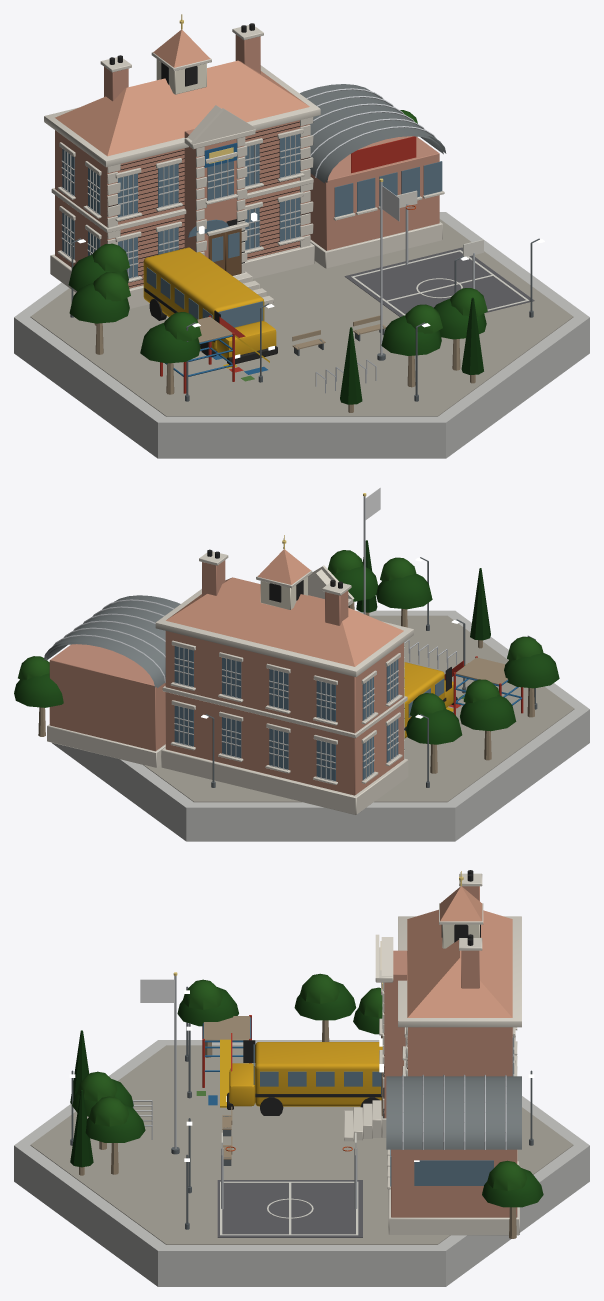
Rendered from school_med.glb.
3 renders of one model, top to bottom at view 1: azimuth 30°, elevation 25°; view 2: azimuth 150°, elevation 25°; view 3: azimuth 270°, elevation 25°, orthographic. The views are drawn at different scales.
Parts seen in each view (by area): view 1: pavers, wall_concrete, brick, stone, leaf, roof_tile, glass, paint, asphalt, dark, wood, metal (+2 smaller); view 2: wall_concrete, brick, stone, pavers, leaf, roof_tile, glass, paint, wood, metal, steel_dark, plaster (+1 smaller); view 3: wall_concrete, pavers, brick, leaf, roof_tile, paint, stone, asphalt, glass, wood, metal, dark (+2 smaller).
Boxes of the visible parts, box(x1,y1,x2,y2) form: pavers: box(30, 219, 573, 416); wall_concrete: box(14, 84, 589, 458); brick: box(55, 34, 439, 288); stone: box(44, 25, 444, 308); leaf: box(68, 110, 487, 404); roof_tile: box(55, 29, 309, 156); glass: box(62, 134, 442, 327); paint: box(143, 136, 529, 393); asphalt: box(344, 247, 534, 316); dark: box(107, 23, 310, 364); wood: box(94, 228, 475, 412); metal: box(306, 88, 474, 393); wall_concrete: box(43, 595, 589, 841); brick: box(49, 560, 403, 795); stone: box(47, 551, 413, 814); pavers: box(143, 615, 574, 802); leaf: box(14, 540, 559, 744); roof_tile: box(166, 549, 403, 666); glass: box(174, 646, 444, 780); paint: box(404, 656, 523, 738); wood: box(38, 601, 534, 773); metal: box(52, 496, 456, 682); steel_dark: box(205, 557, 537, 787); plaster: box(260, 577, 307, 609); wall_concrete: box(14, 995, 589, 1286); pavers: box(30, 1045, 573, 1244); brick: box(384, 886, 517, 1217); leaf: box(70, 973, 543, 1207); roof_tile: box(407, 886, 512, 1017); paint: box(196, 1015, 382, 1235); stone: box(344, 873, 521, 1235); asphalt: box(217, 1180, 362, 1237); glass: box(253, 1037, 513, 1186); wood: box(79, 1016, 516, 1238); metal: box(133, 975, 506, 1209); dark: box(227, 870, 480, 1118).
Bounding box in the file's own units: 21.48 × 13.7 × 24.6.
